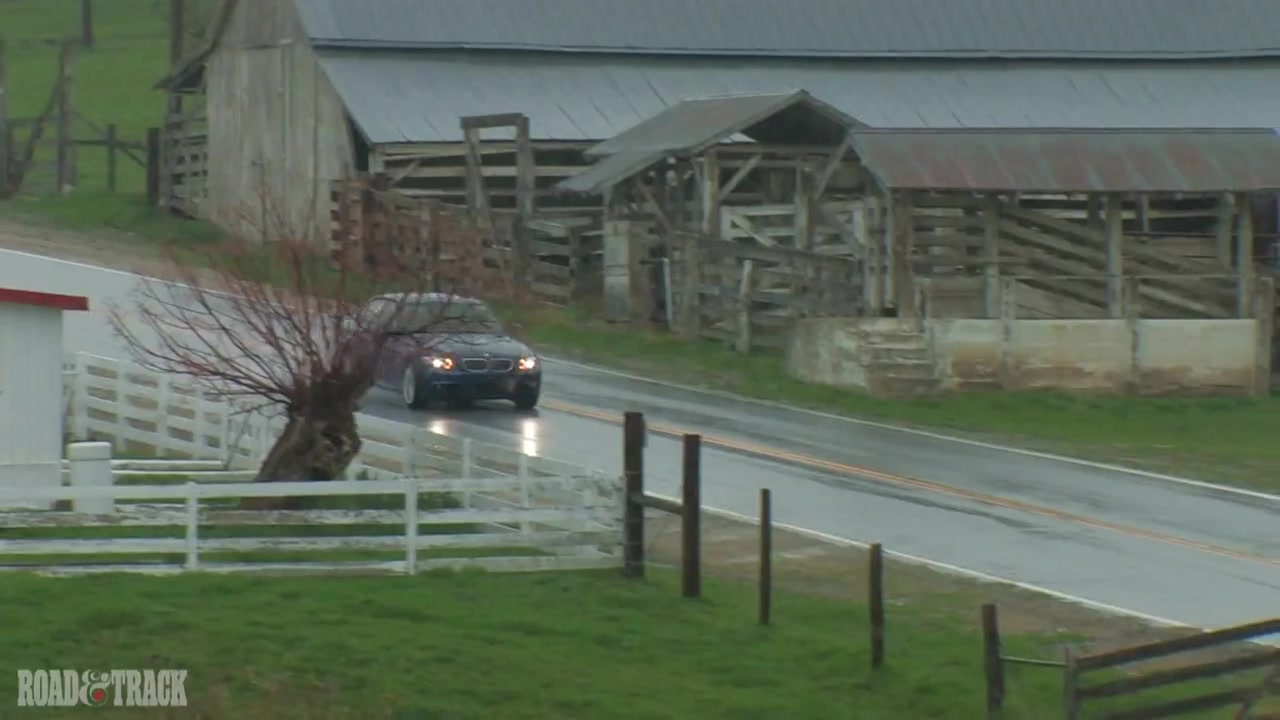car: (333, 291, 542, 414)
